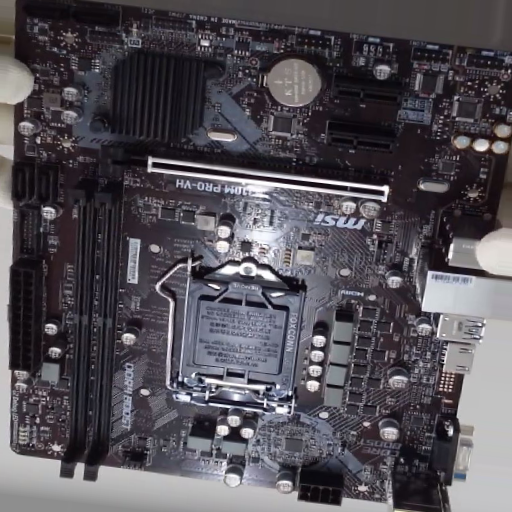CPU: (175, 259, 307, 416)
GPU: (100, 144, 389, 203)
MOTHERBOARD: (9, 5, 511, 505)
RAM: (59, 179, 124, 479)
